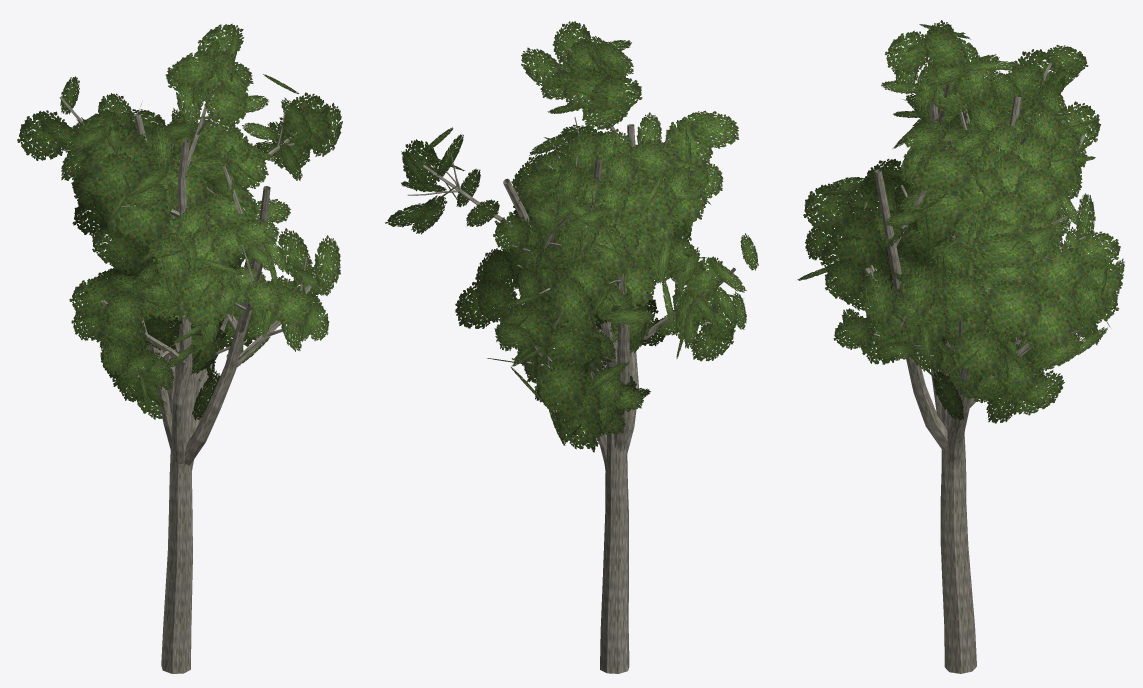
Rendered from Tree_Beech_2.gltf.
The picture shows the model from 3 angles, left to right: view 1: azimuth 30°, elevation 25°; view 2: azimuth 150°, elevation 25°; view 3: azimuth 270°, elevation 25°; orthographic projection. The views are drawn at different scales.
Visible parts, largest first — view 1: Tree_Beech_2; view 2: Tree_Beech_2; view 3: Tree_Beech_2.
Part boxes in pixels (x1,y1,x2,y2): Tree_Beech_2: (17,23,342,673); Tree_Beech_2: (385,21,758,673); Tree_Beech_2: (797,20,1124,673).
Bounding box in the file's own units: 14 × 26.96 × 12.49.
Materials: 2 (2 with a texture image).
